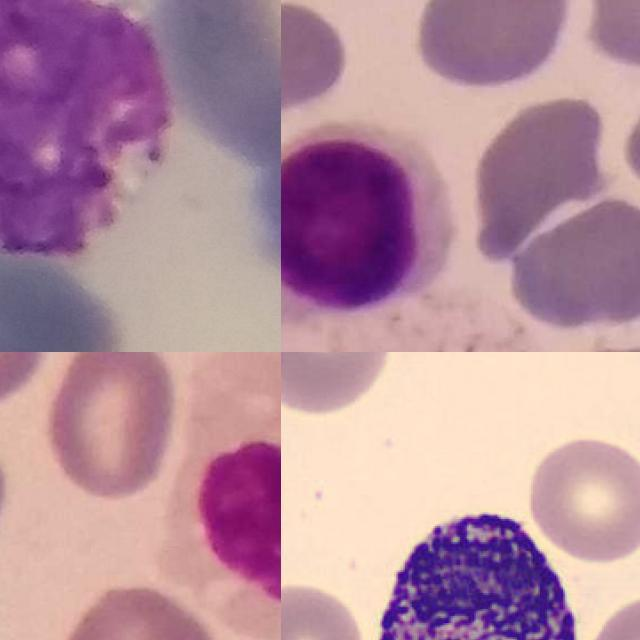Basophil: (0, 0, 177, 262), (359, 490, 594, 640)
Eosinophil: (177, 352, 281, 640)
Lymphocyte: (281, 122, 457, 316)
RBC: (523, 431, 640, 565), (281, 352, 397, 417), (281, 577, 367, 640)
